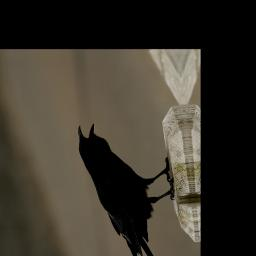Crow: (76, 117, 183, 256)
